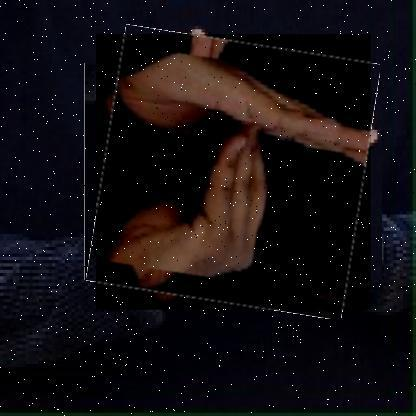Z: (96, 34, 372, 311)
